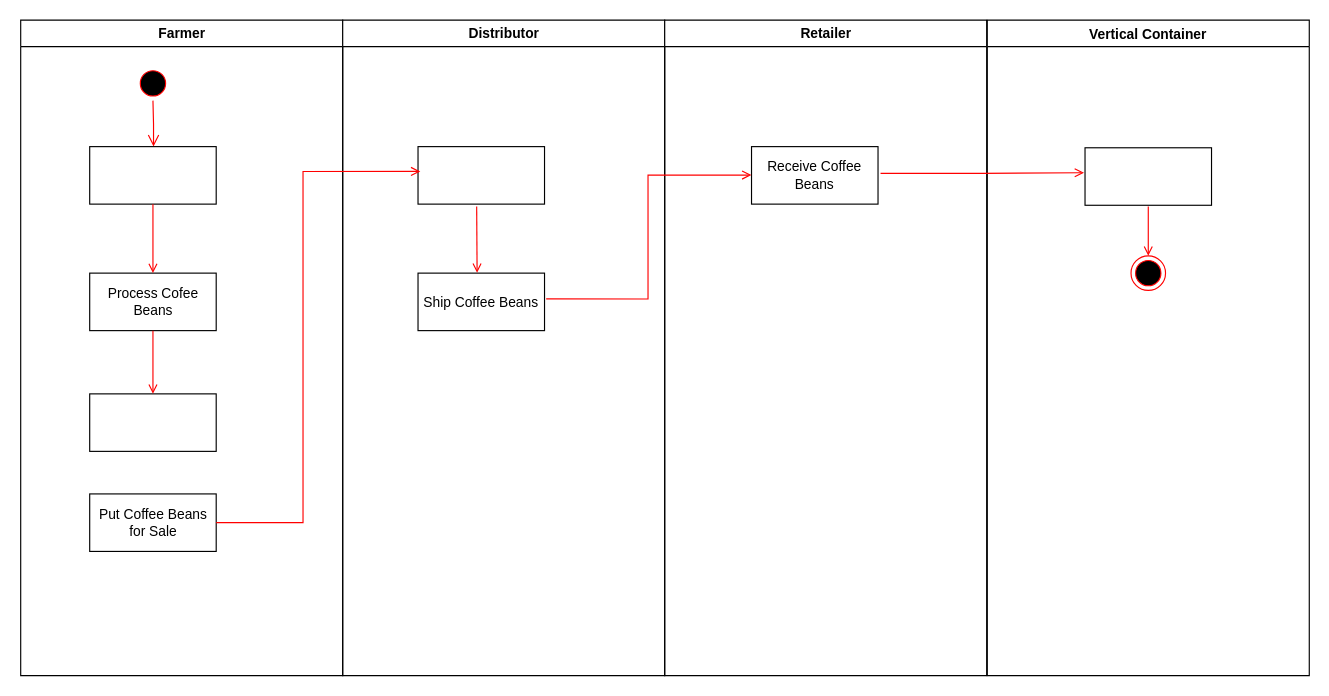
Some shapes in this 1329 by 696 pixel diagram are drawn without their labels. Here are the shapes that lost their labels. From the top down, the centre of each, then its label:
At [152,174]: "Harvest Coffee Beans".
At [481,174]: "Buy Coffee Beans".
At [1148,176]: "Purchase Coffee Beans".
At [152,422]: "Pack Coffee Beans".
